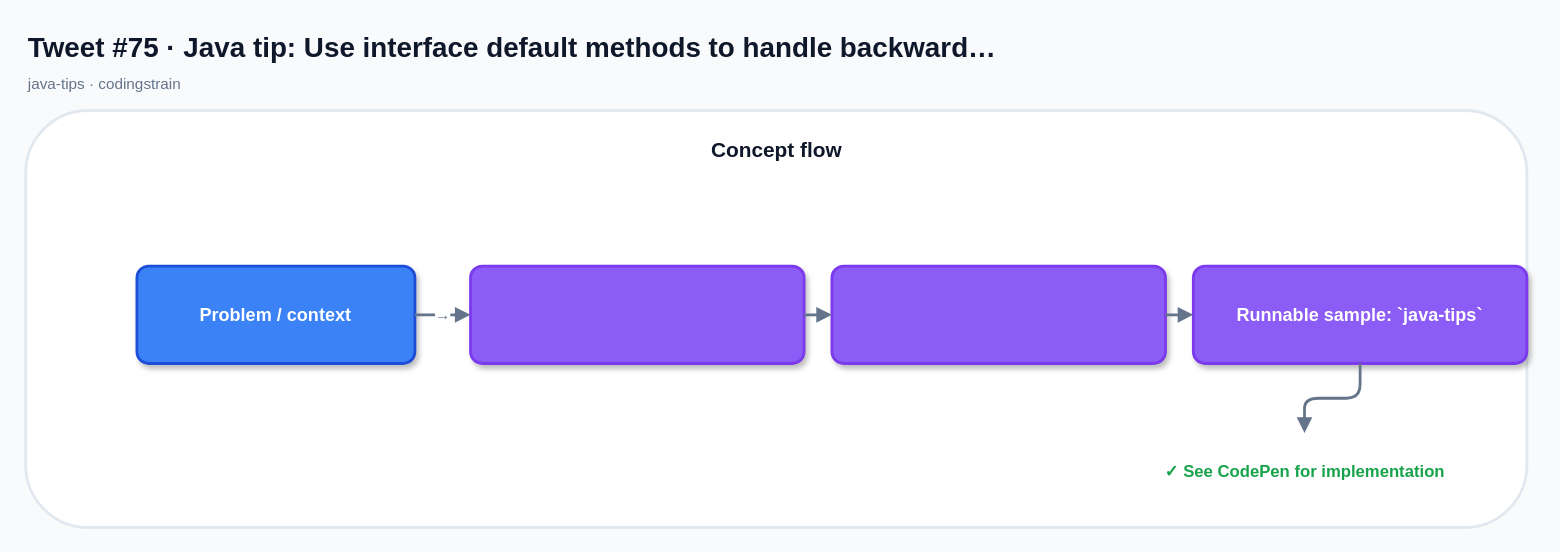
Image size: 1560x552. Some labels were removed from this diagram. The centre of each missing label's shape, as x and y in pixels:
"#Java #Interfaces" belongs at [999,316].
"💡 Java tip: Use interface default methods to handle backward compatibi" belongs at [638,316].
